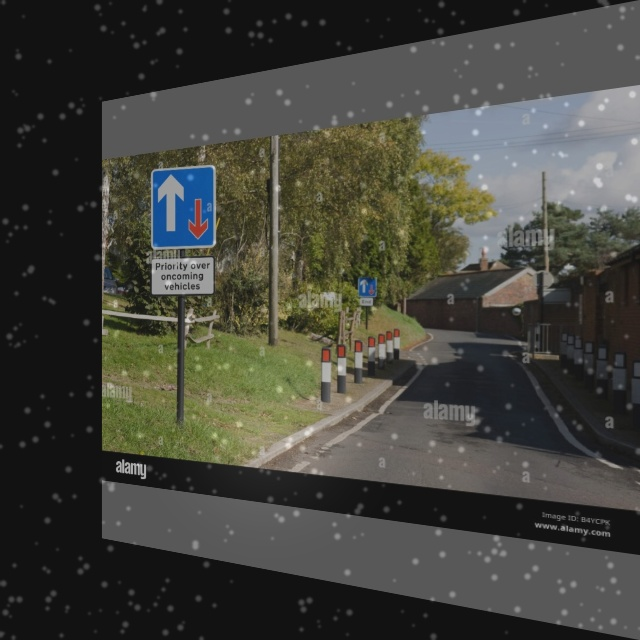Priority_for_Oncoming_Traffic: (153, 163, 216, 250)
